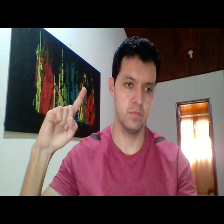2T: (31, 82, 92, 159)
